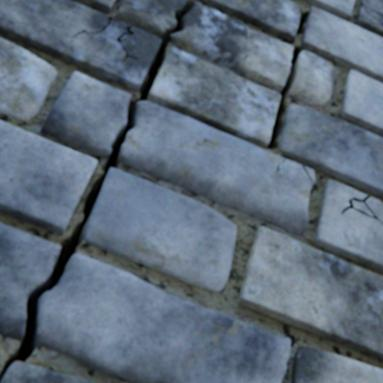brick: (278, 0, 382, 197), (238, 225, 382, 359), (84, 167, 236, 291), (0, 0, 161, 91), (148, 48, 280, 148), (0, 120, 97, 234), (314, 179, 382, 271), (0, 37, 57, 120), (197, 0, 299, 43), (291, 346, 382, 382), (1, 360, 97, 382), (365, 197, 382, 221), (351, 200, 372, 215)
broken_brick: (36, 253, 290, 382), (118, 101, 314, 234), (172, 2, 293, 91), (42, 72, 132, 157), (0, 222, 61, 341), (287, 51, 338, 106), (117, 0, 185, 37)
crack: (0, 0, 265, 382), (267, 47, 301, 149), (341, 195, 382, 224), (72, 17, 112, 38), (118, 25, 138, 62), (296, 13, 308, 35), (367, 14, 382, 25), (302, 165, 312, 181), (361, 3, 369, 9), (280, 41, 290, 44)
